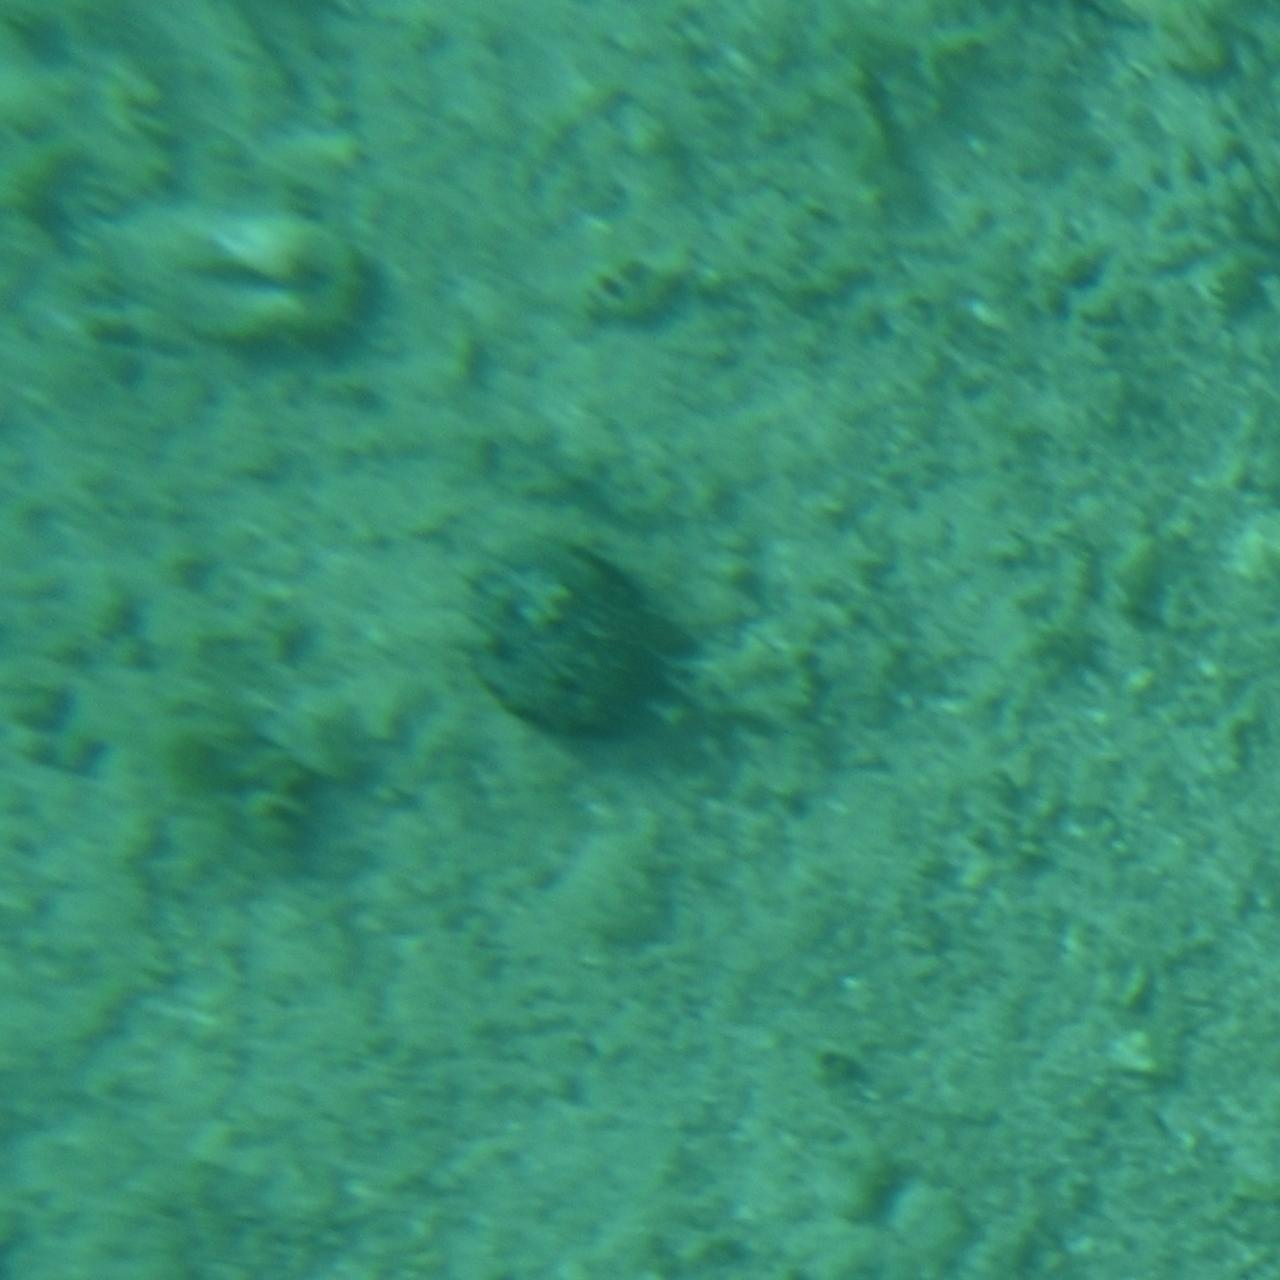Keratosa -cfr Sarcotragus-: (459, 536, 666, 744)
